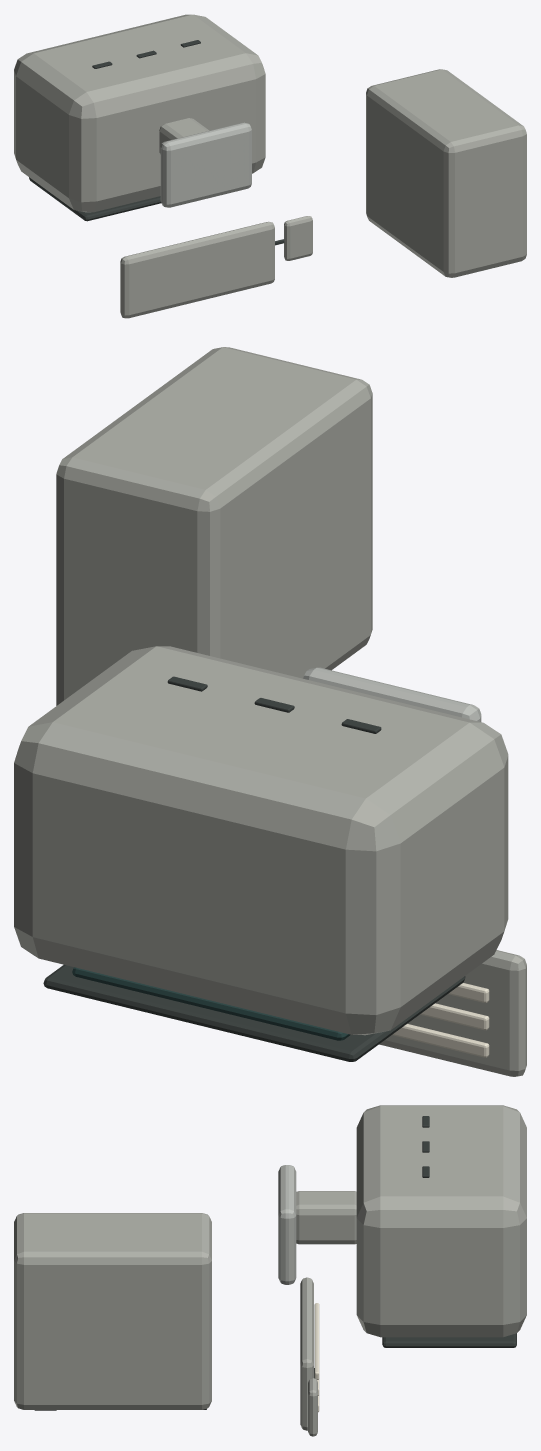
File: OfficeCRTComputer.fbx
3 renders of one model, top to bottom at view 1: azimuth 30°, elevation 25°; view 2: azimuth 150°, elevation 25°; view 3: azimuth 270°, elevation 25°, orthographic. The views are drawn at different scales.
Parts seen in each view (by area): view 1: CRT casing, computer tower, keyboard shell, CRT stand foot, mouse, CRT bezel lip, CRT neck; view 2: CRT casing, computer tower, keyboard shell, CRT bezel lip, CRT stand foot, CRT screen glass, keyboard key row, keyboard key row.001; view 3: CRT casing, computer tower, CRT neck, CRT stand foot, keyboard shell, CRT bezel lip, mouse, keyboard key row.002.
Part boxes in pixels (x1=…): CRT casing: x1=14, y1=14, x2=265, y2=212; computer tower: x1=366, y1=69, x2=526, y2=277; keyboard shell: x1=120, y1=221, x2=274, y2=318; CRT stand foot: x1=160, y1=122, x2=251, y2=207; mouse: x1=284, y1=216, x2=312, y2=260; CRT bezel lip: x1=29, y1=177, x2=161, y2=221; CRT neck: x1=159, y1=118, x2=209, y2=154; CRT casing: x1=14, y1=646, x2=508, y2=1035; computer tower: x1=56, y1=347, x2=372, y2=705; keyboard shell: x1=379, y1=950, x2=526, y2=1076; CRT bezel lip: x1=43, y1=965, x2=465, y2=1061; CRT stand foot: x1=303, y1=667, x2=481, y2=721; CRT screen glass: x1=72, y1=967, x2=350, y2=1040; keyboard key row: x1=392, y1=1023, x2=489, y2=1057; keyboard key row.001: x1=420, y1=1003, x2=489, y2=1030; CRT casing: x1=356, y1=1105, x2=526, y2=1337; computer tower: x1=14, y1=1213, x2=211, y2=1409; CRT neck: x1=296, y1=1191, x2=356, y2=1244; CRT stand foot: x1=278, y1=1165, x2=296, y2=1284; keyboard shell: x1=300, y1=1277, x2=313, y2=1430; CRT bezel lip: x1=382, y1=1333, x2=516, y2=1347; mouse: x1=308, y1=1378, x2=317, y2=1436; keyboard key row.002: x1=314, y1=1303, x2=319, y2=1379.
Size of the model in its own units: 103 by 70 by 130.
